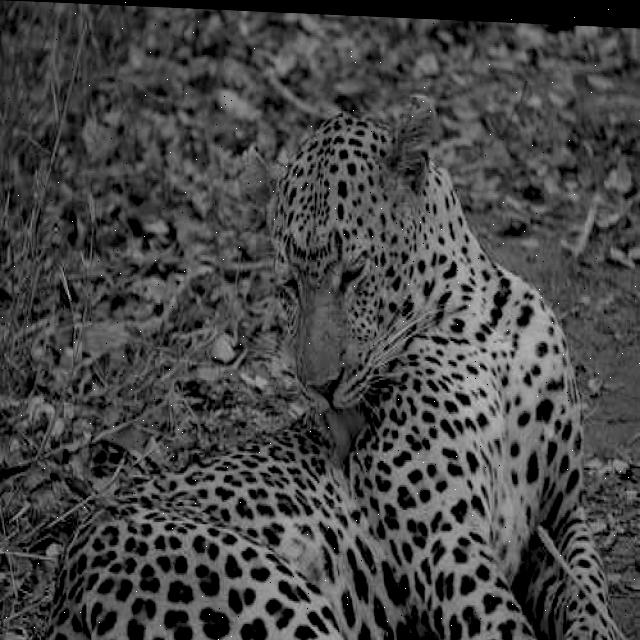Leopard: (84, 145, 611, 626)
